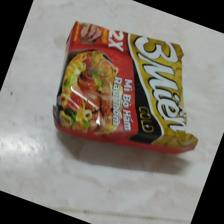3mien: (52, 19, 199, 156)
